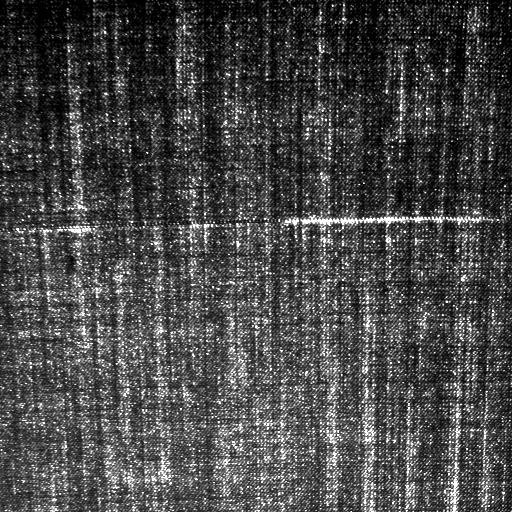fabric_broken_pick: (19, 207, 491, 239)
